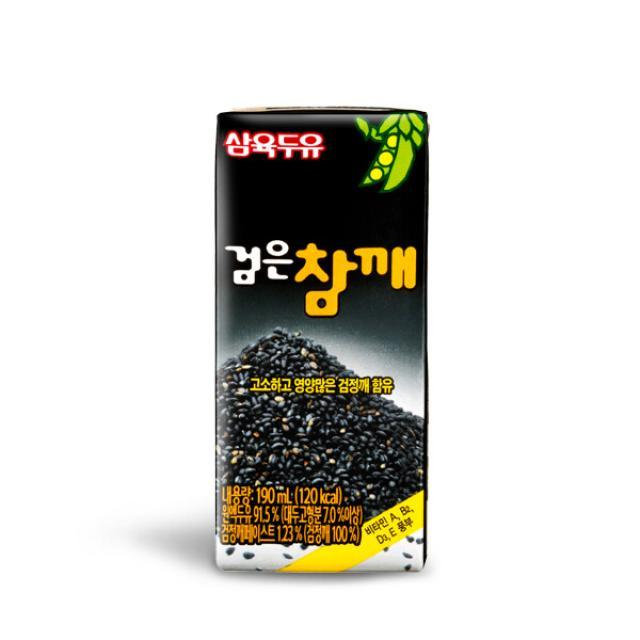Tetra: (200, 84, 452, 590)
